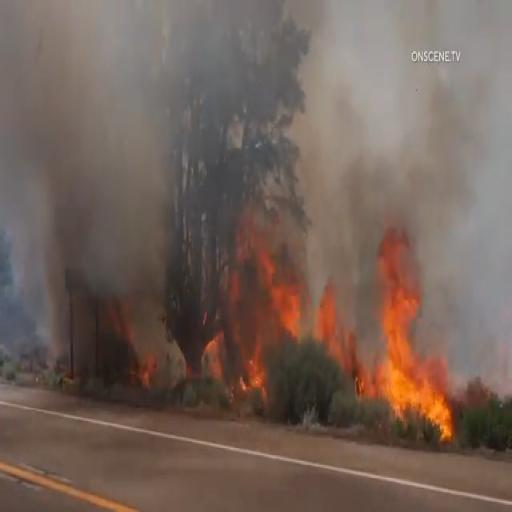fire: (349, 218, 459, 436), (223, 228, 340, 425), (124, 324, 172, 415)
smoke: (1, 0, 121, 267), (314, 79, 512, 216)
